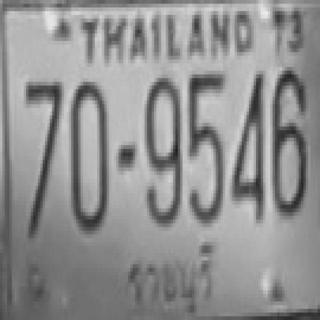N00: (69, 80, 107, 229)
N04: (230, 69, 263, 218)
N05: (186, 69, 224, 221)
N06: (270, 67, 306, 212)
N07: (24, 78, 62, 234)
N09: (142, 74, 180, 223)
P52: (121, 238, 218, 317)
